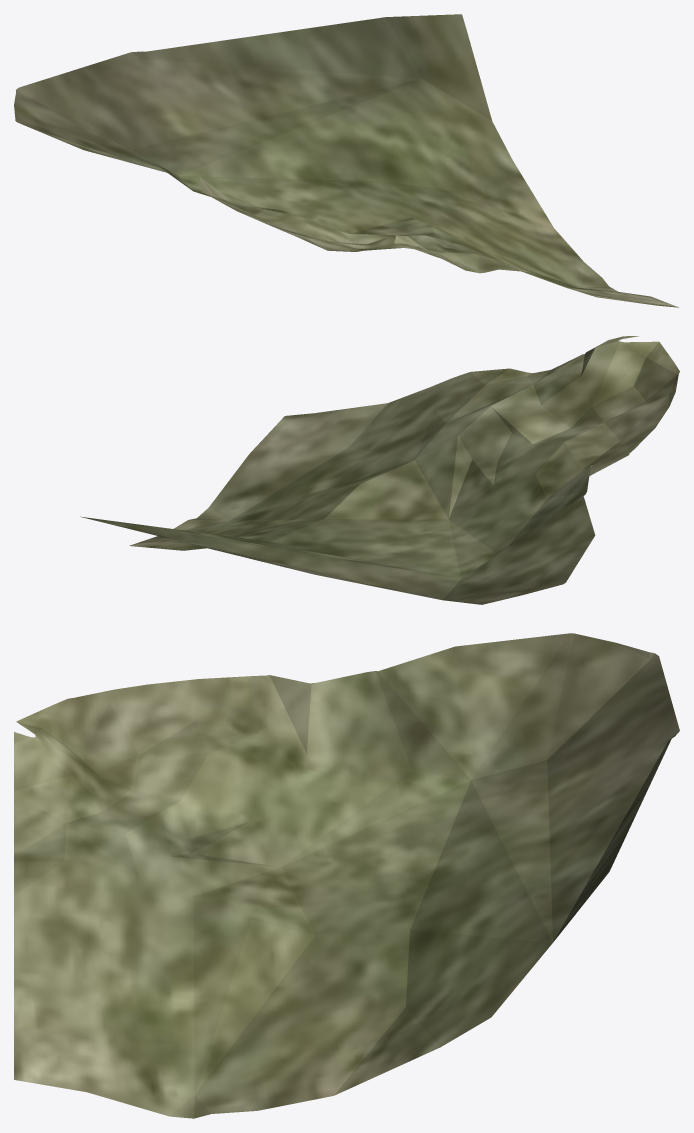
3 renders of one model, top to bottom at view 1: azimuth 30°, elevation 25°; view 2: azimuth 150°, elevation 25°; view 3: azimuth 270°, elevation 25°, orthographic. The views are drawn at different scales.
Size of the model in its own units: 1.69 by 0.5987 by 1.73.
1 material, 1 textured.
